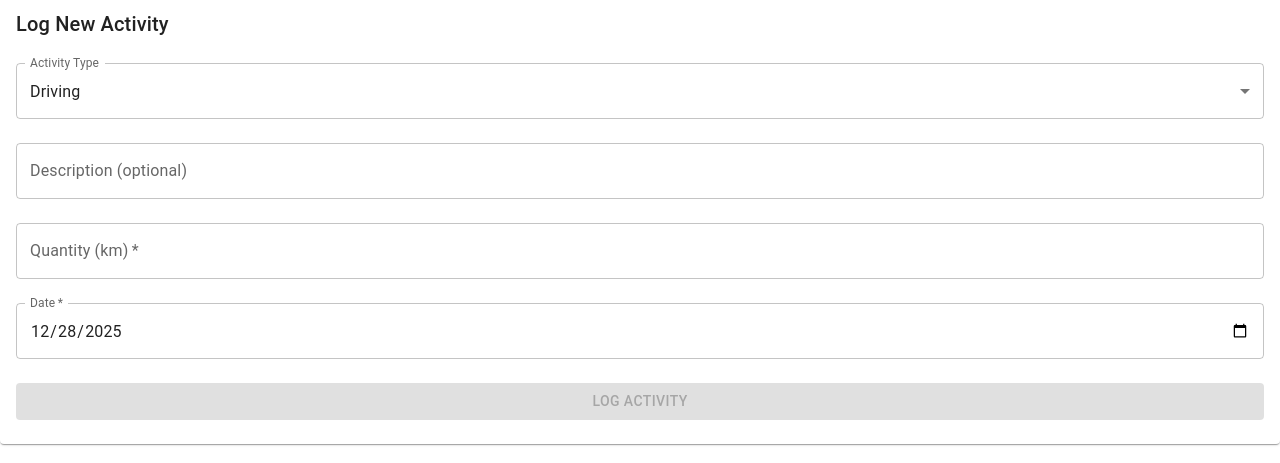
Test case: ActivityForm › changes activity type
Open the select dropdown
Click the dropdown: [55, 91] box x1=30 y1=82 x2=80 y2=100
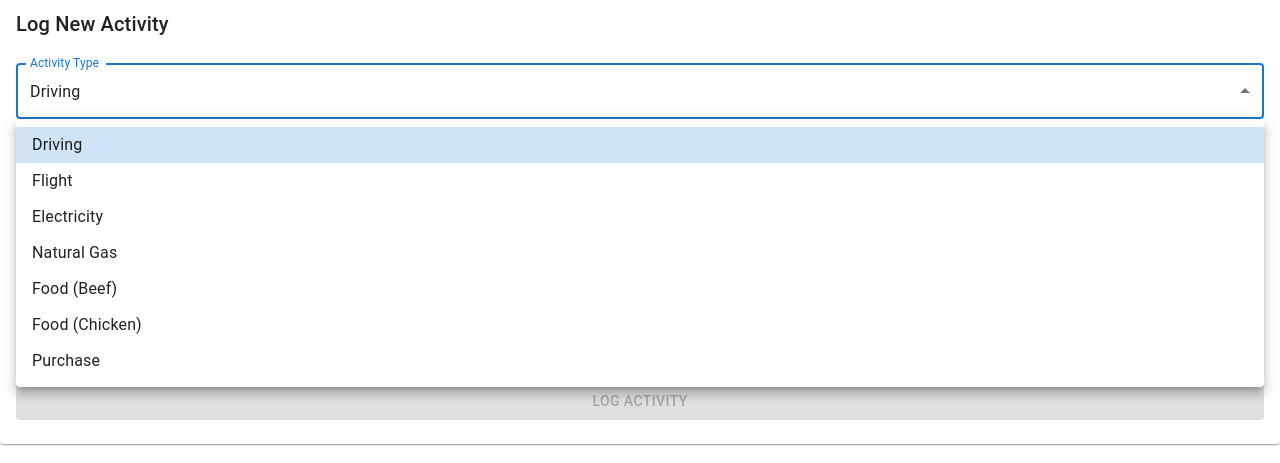
Select a different activity type
Click the option "Flight": [52, 180] box x1=32 y1=171 x2=73 y2=190
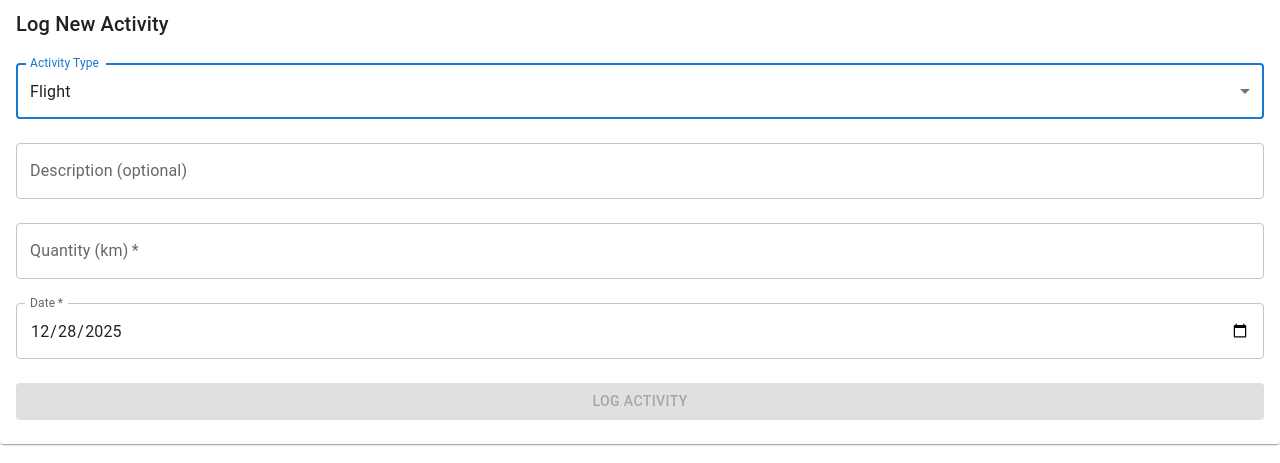
Expected: the dropdown reads "Flight", x1=30 y1=82 x2=71 y2=100
